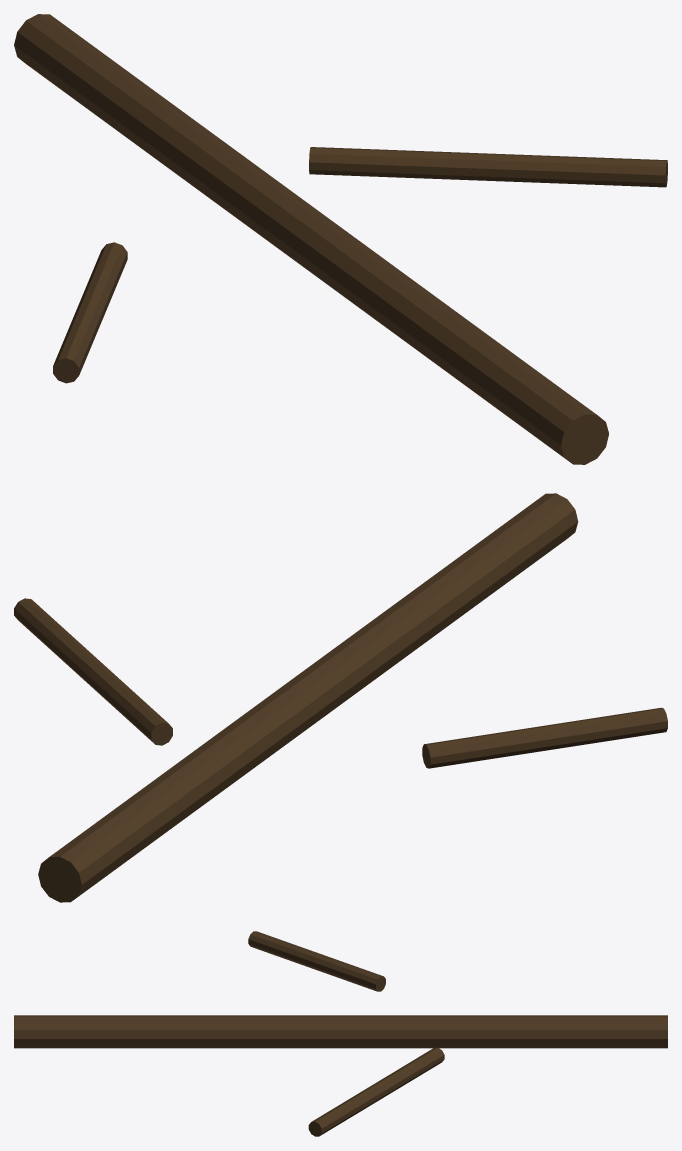
The model's file is dead_branch_01.glb.
The picture shows the model from 3 angles, top to bottom: view 1: azimuth 30°, elevation 25°; view 2: azimuth 150°, elevation 25°; view 3: azimuth 270°, elevation 25°; orthographic projection. The views are drawn at different scales.
Visible parts, largest first — view 1: Cylinder; view 2: Cylinder; view 3: Cylinder.
Part boxes in pixels (x1=…): Cylinder: x1=14, y1=14, x2=667, y2=464; Cylinder: x1=14, y1=493, x2=667, y2=902; Cylinder: x1=14, y1=931, x2=667, y2=1136.
Size of the model in its own units: 0.3876 by 0.028 by 0.55.
